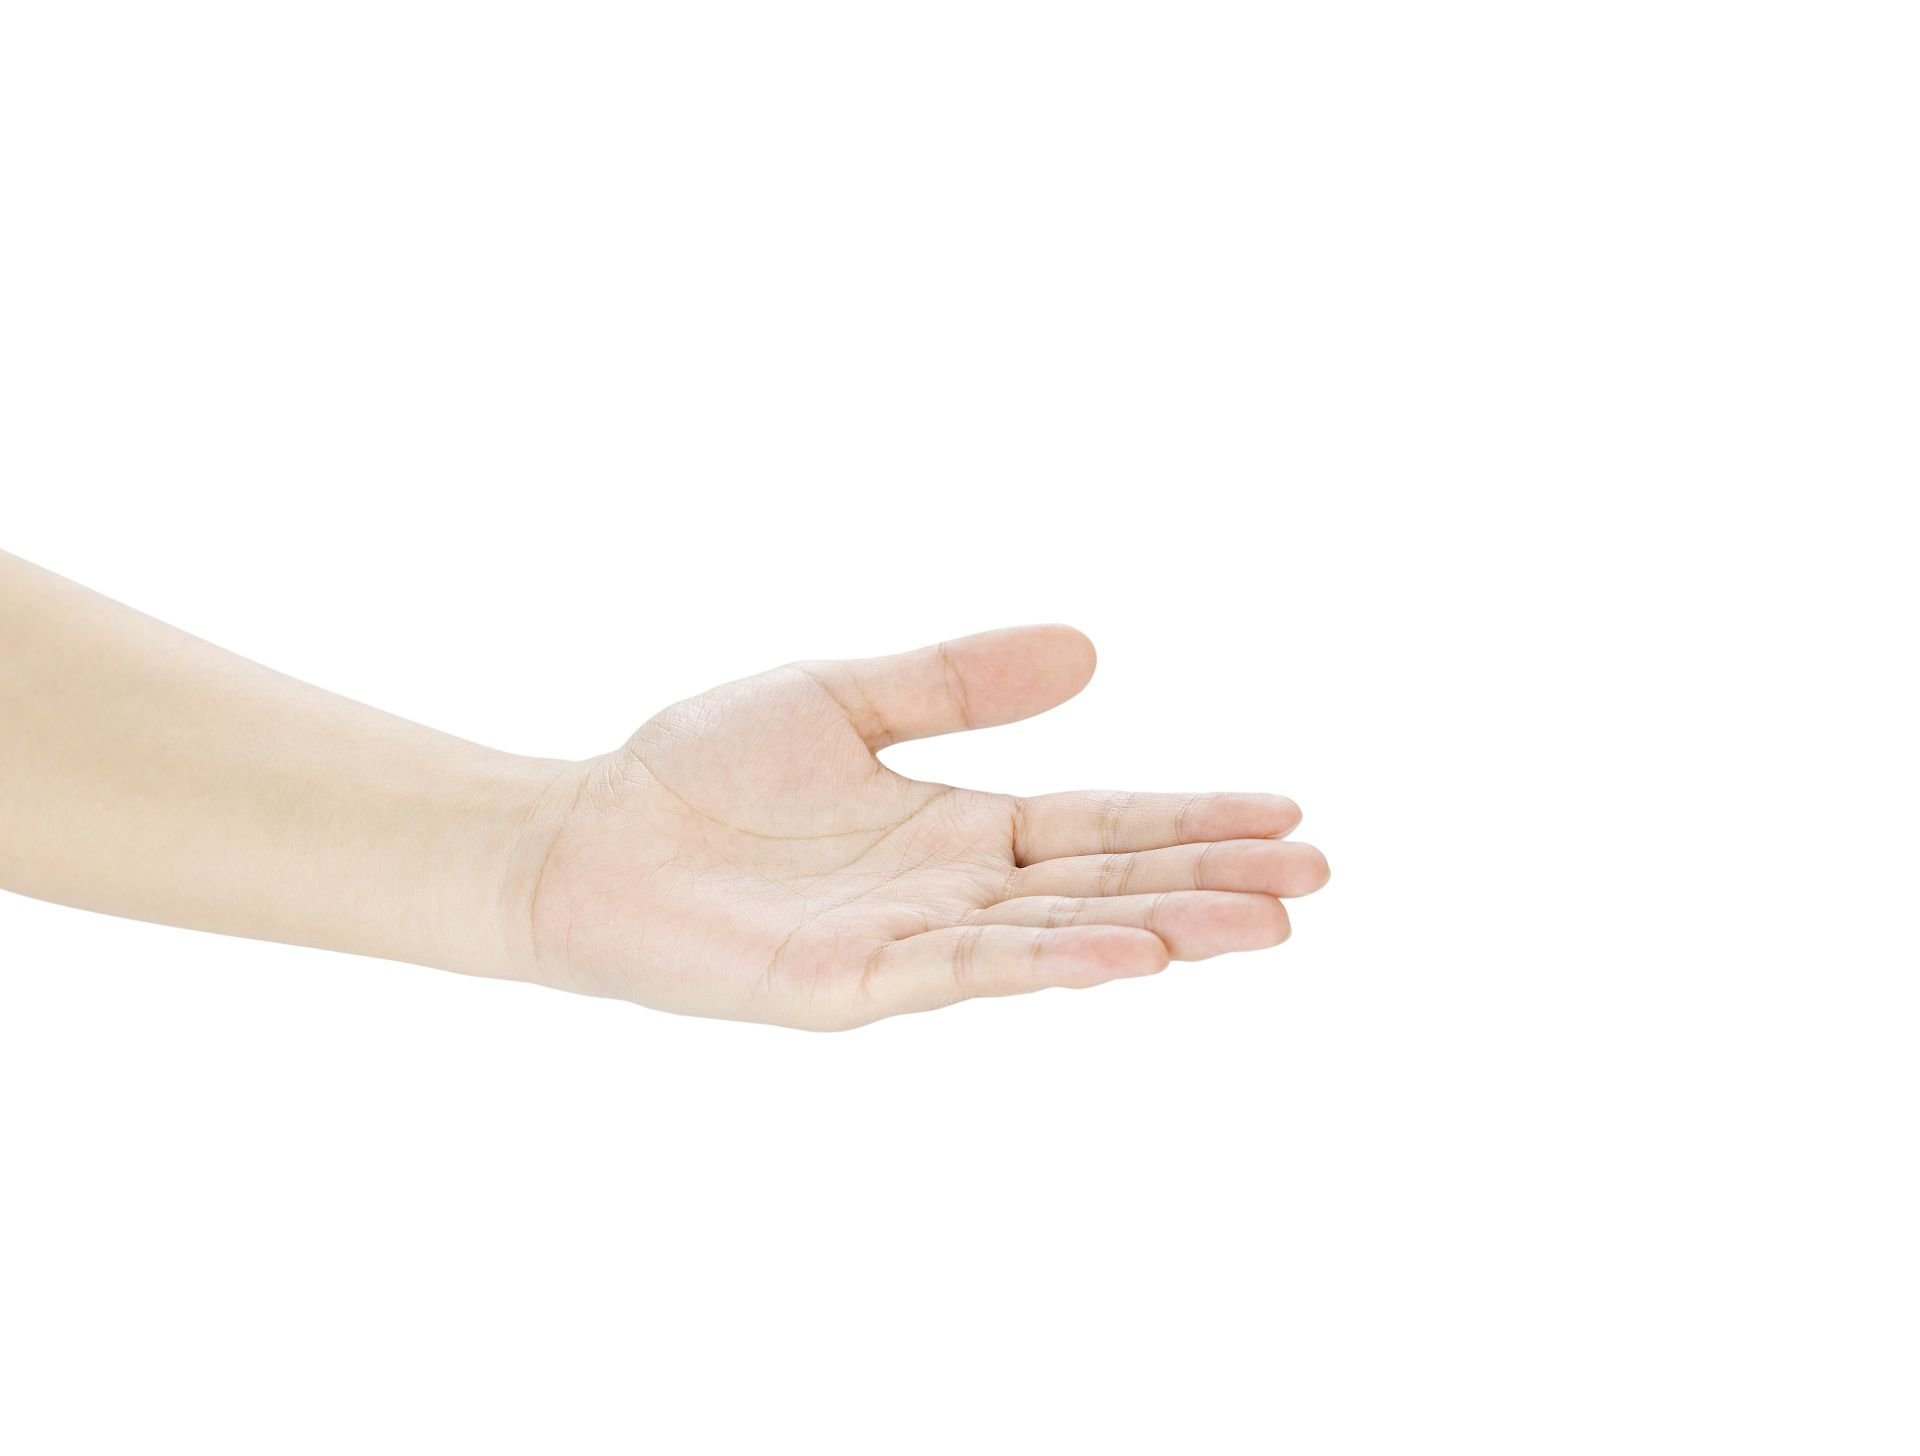no-phone: (547, 606, 1342, 1051)
